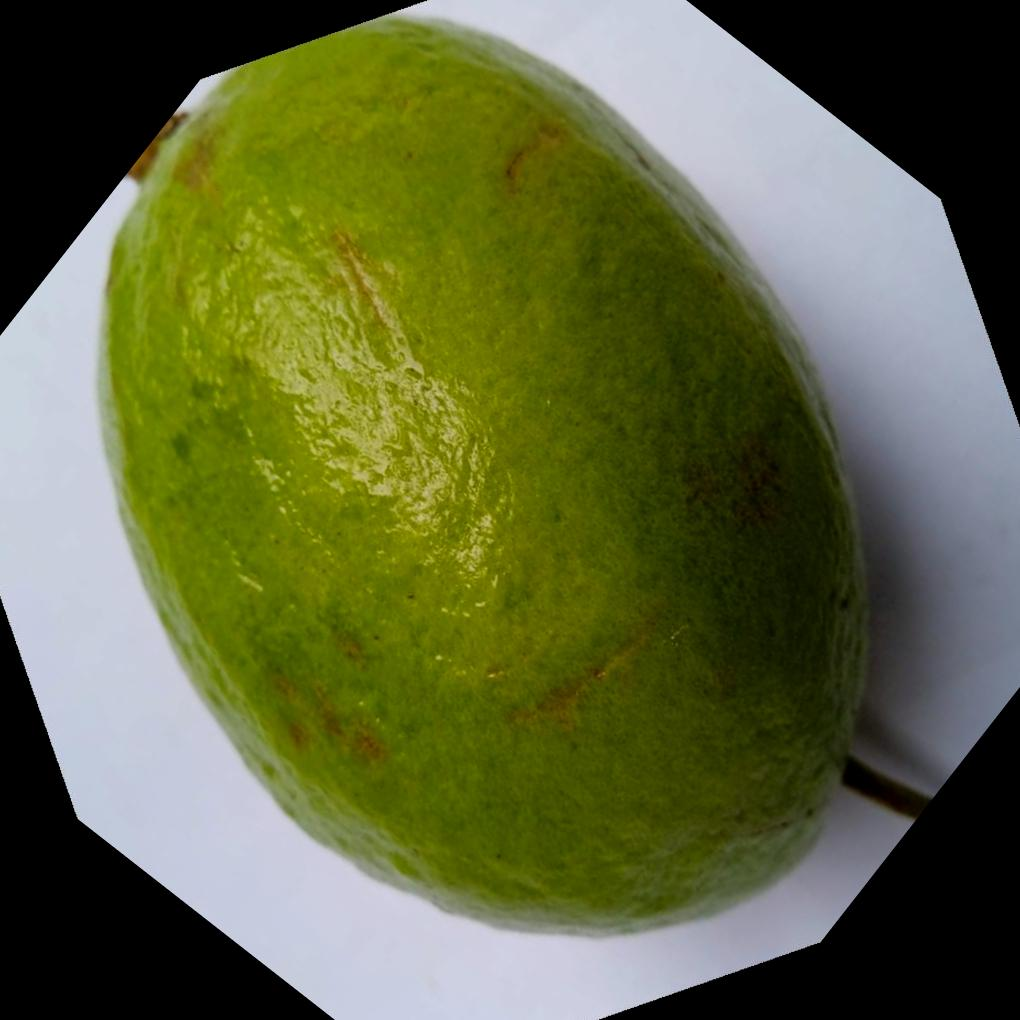FreshGuava: (97, 13, 871, 939)
